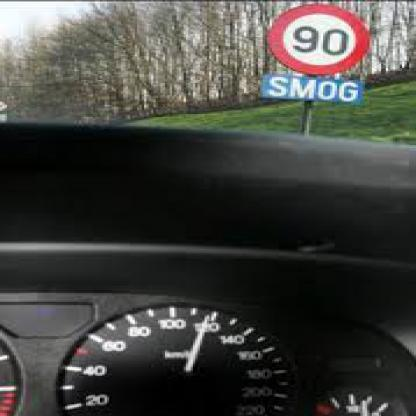Speed Limit 90: (269, 7, 370, 72)
